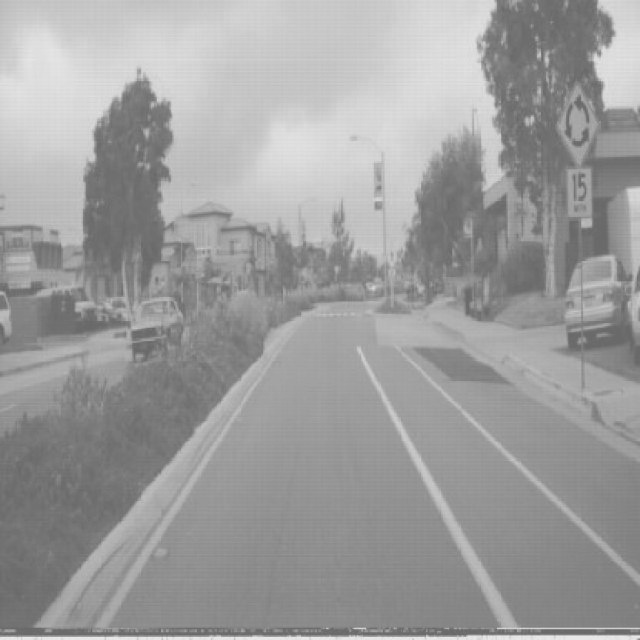roundabout: (555, 78, 600, 170)
